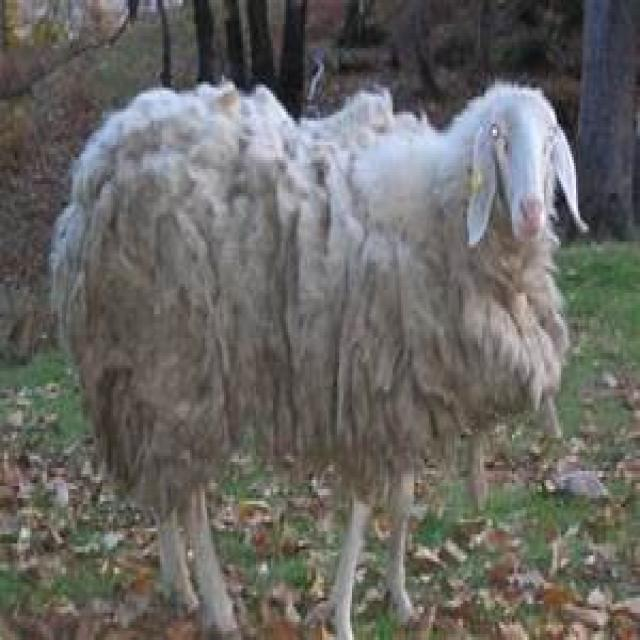sheep: (49, 81, 586, 640)
